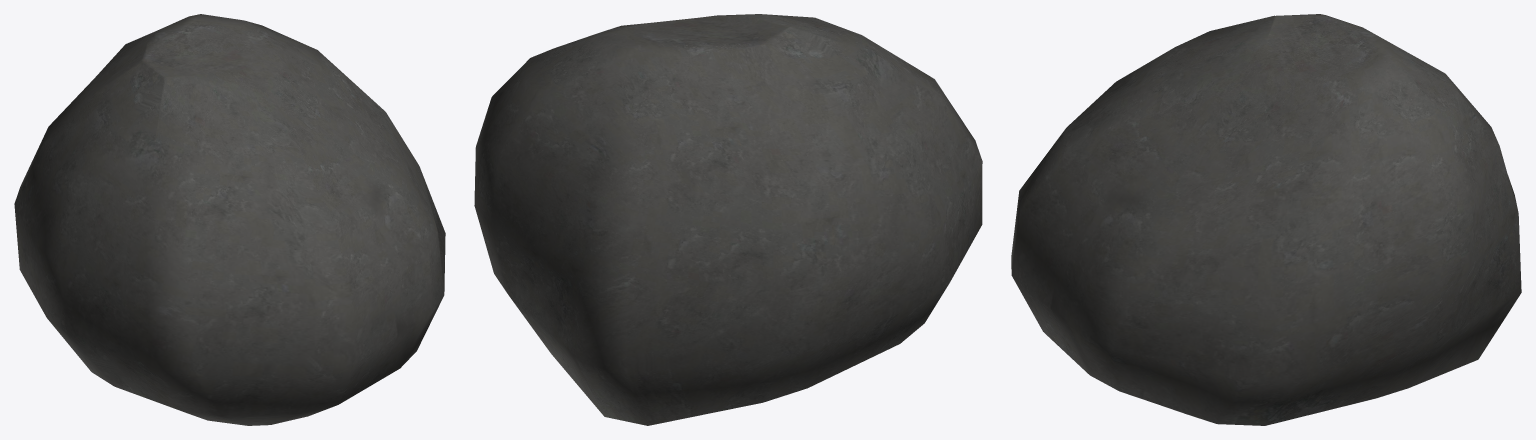
The model's file is Ingredients_Rock.fbx.
The picture shows the model from 3 angles, left to right: view 1: azimuth 30°, elevation 25°; view 2: azimuth 150°, elevation 25°; view 3: azimuth 270°, elevation 25°; orthographic projection. The views are drawn at different scales.
Parts seen in each view (by area): view 1: pSphere1; view 2: pSphere1; view 3: pSphere1.
Boxes of the visible parts, <box> form: pSphere1: <box>14,14,445,425</box>; pSphere1: <box>474,14,982,425</box>; pSphere1: <box>1011,14,1521,425</box>.
Bounding box in the file's own units: 2.98 × 2.33 × 3.19.
1 material, 1 textured.
